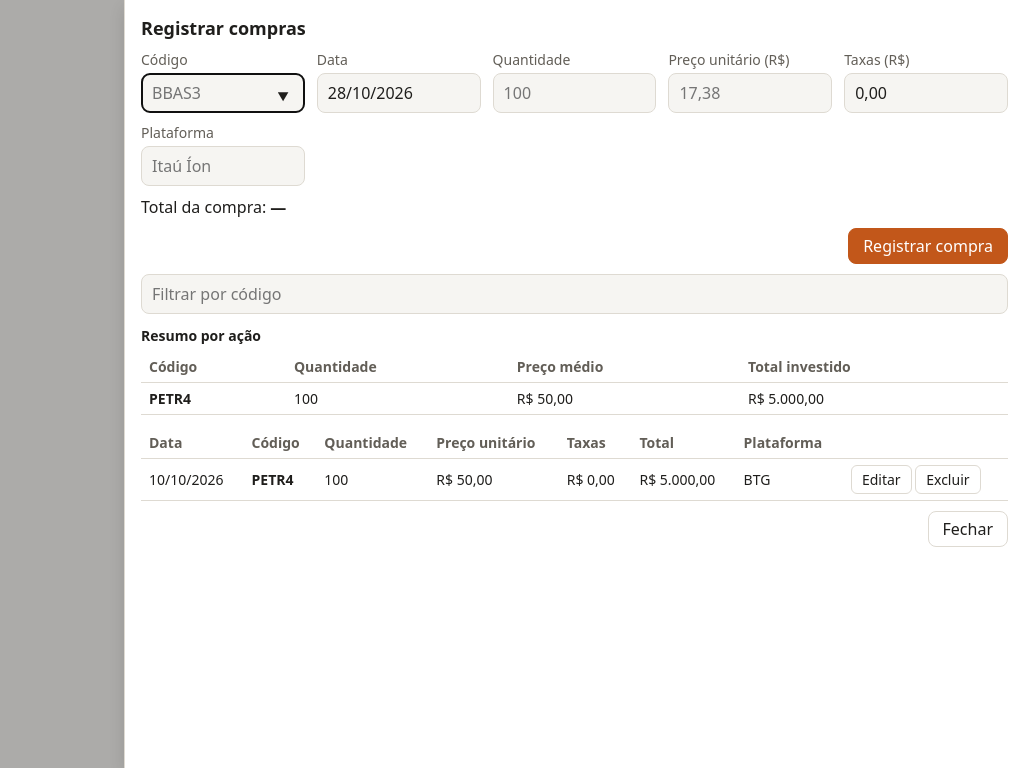
Scenario: RegistroCompras › cancelar a edição volta ao formulário vazio sem gravar
Expected: the table named "Compras registradas" is shown, 141,427 -> 1008,501
Click the button with aria-label "Editar a compra": [881, 480] box 851,465 -> 912,494
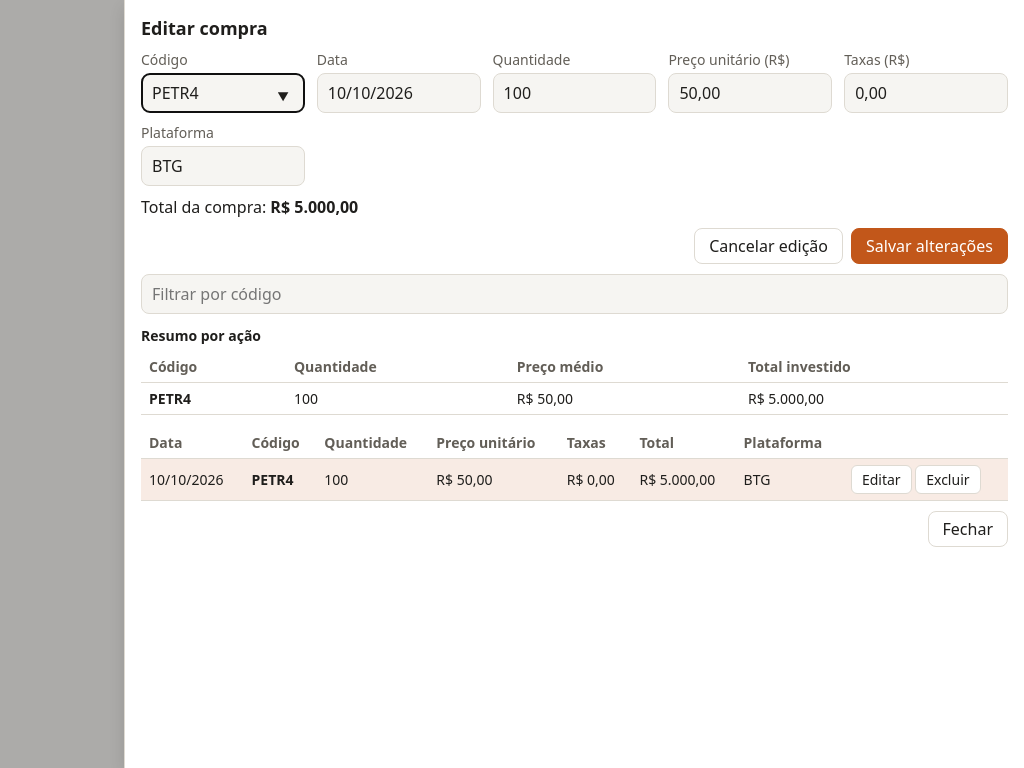
Click the button "Cancelar edição": [769, 246] box 694,228 -> 843,264
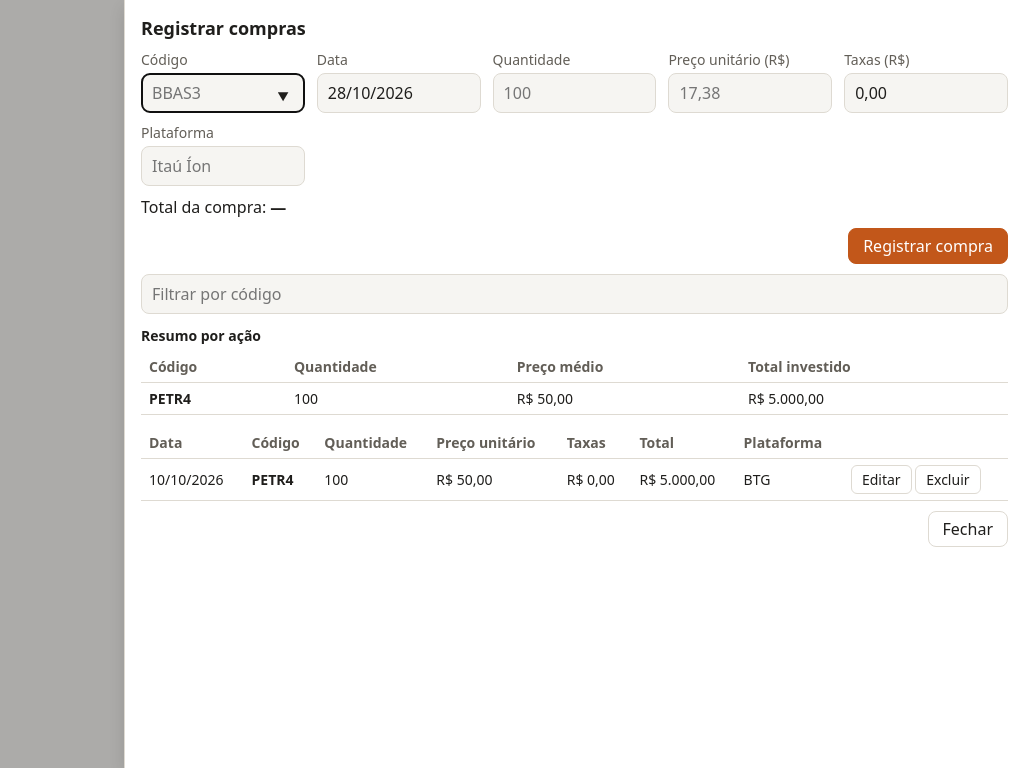
Now the field labelled "Código" is empty, box 141,73 -> 305,113
Now the button "Registrar compra" is shown, box 848,228 -> 1008,264
